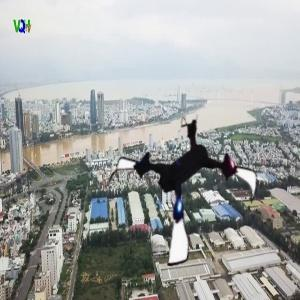drone: (107, 112, 264, 269)
